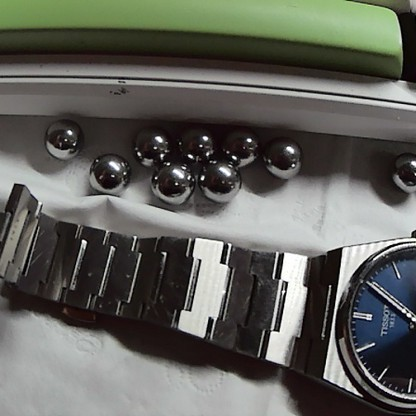ironball: (34, 114, 90, 160), (129, 116, 176, 164), (200, 158, 244, 200), (260, 135, 304, 176), (152, 165, 193, 204), (177, 124, 216, 163), (383, 148, 414, 196), (90, 150, 126, 190), (220, 124, 257, 162)
